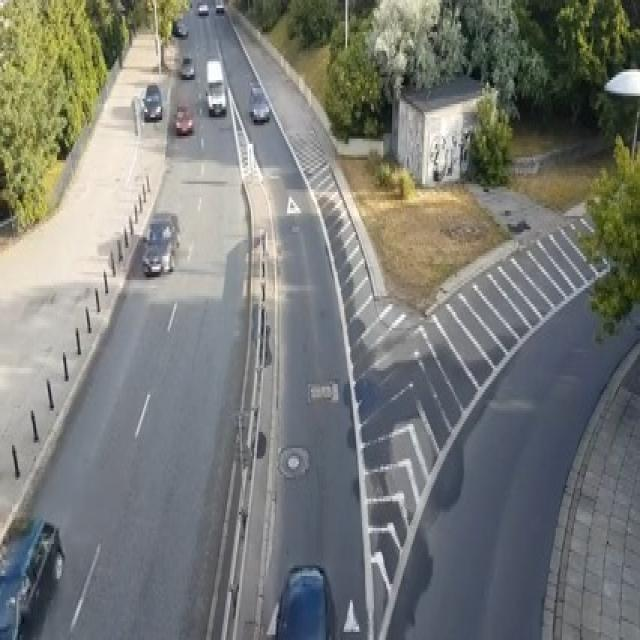car: (0, 515, 65, 637), (266, 563, 338, 637), (141, 218, 174, 274), (248, 82, 269, 122), (141, 83, 162, 120), (175, 104, 192, 133), (180, 54, 194, 78), (173, 16, 188, 35), (197, 0, 209, 13), (215, 0, 224, 13)
truck: (204, 59, 226, 114)
